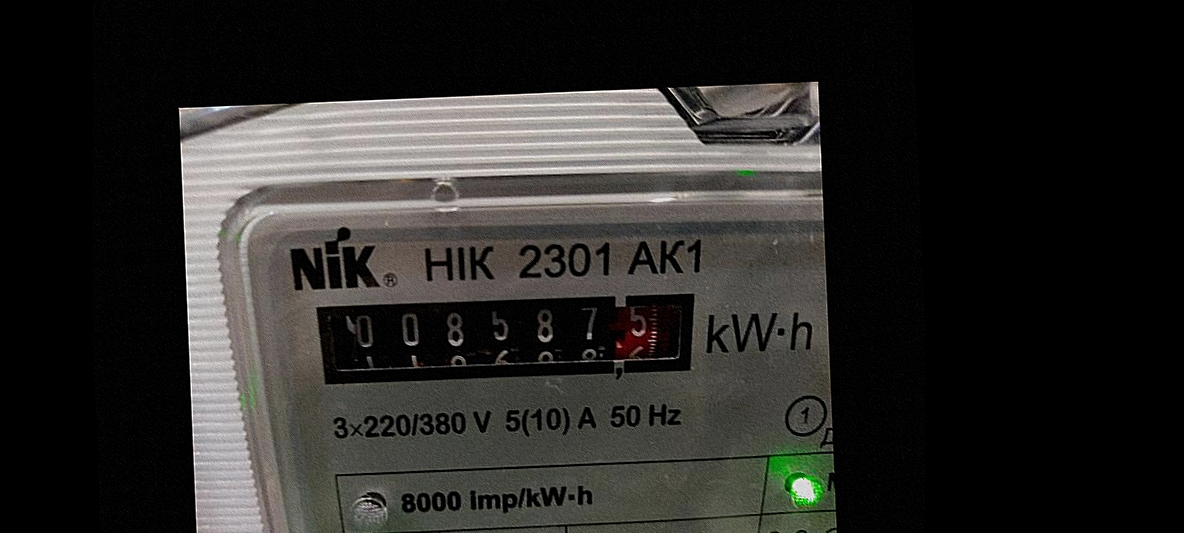0: (398, 308, 423, 349)
1: (352, 310, 377, 352)
5: (627, 299, 652, 340), (489, 305, 513, 344)
7: (578, 302, 602, 344)
8: (442, 308, 468, 350), (534, 304, 556, 346)
screen: (296, 271, 718, 407)
